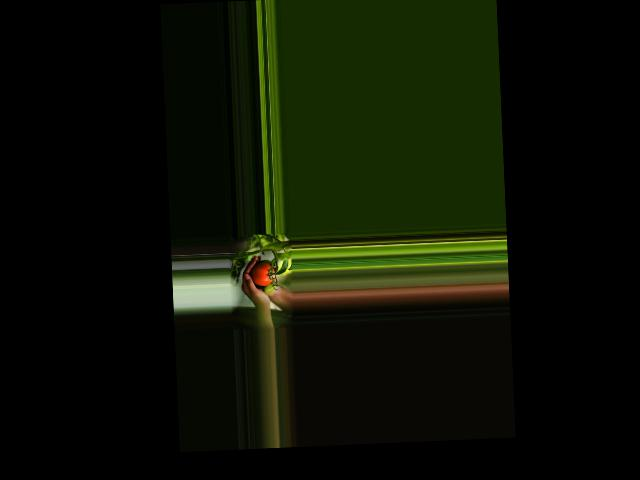tomato: (250, 263, 274, 286)
